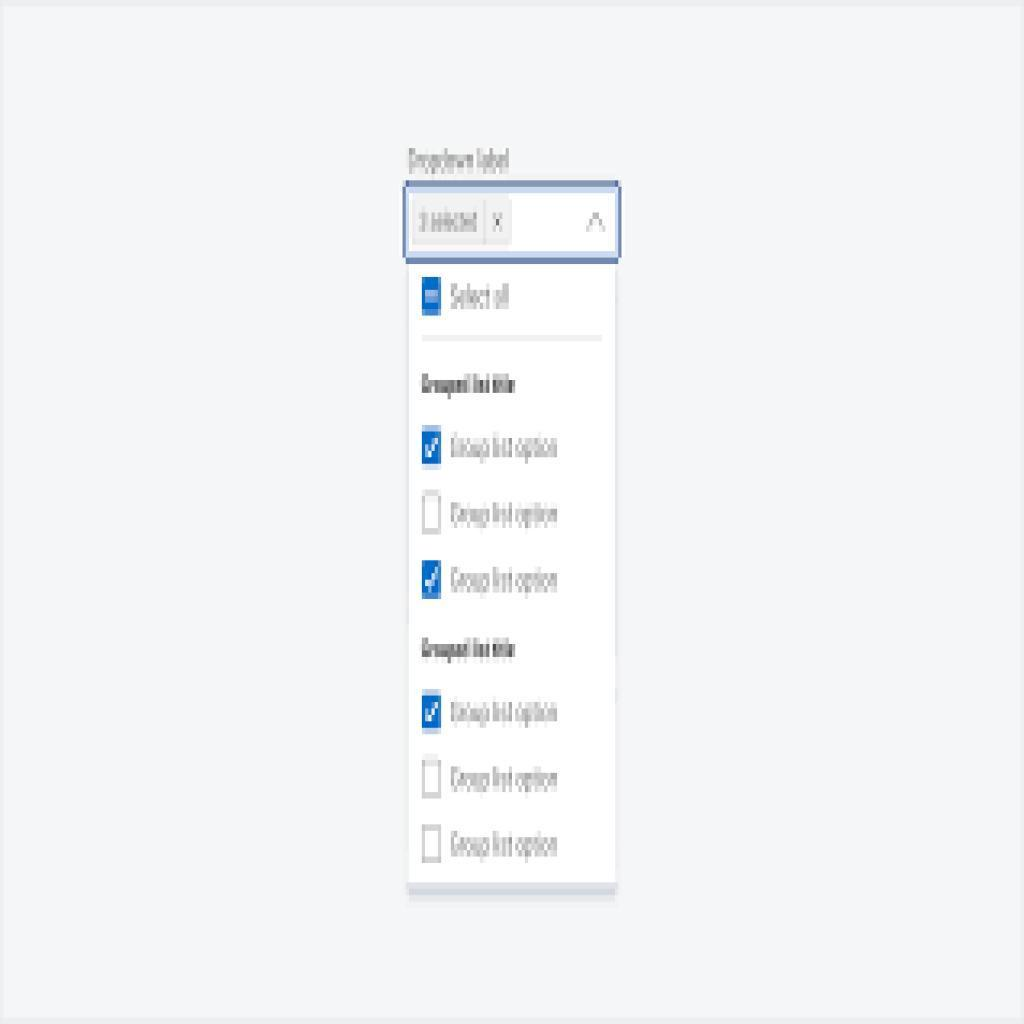checkbox: (420, 761, 445, 800), (422, 493, 444, 536), (421, 427, 443, 466), (421, 824, 441, 865), (422, 691, 441, 734), (422, 561, 442, 598)
dropdown: (403, 185, 623, 263)
